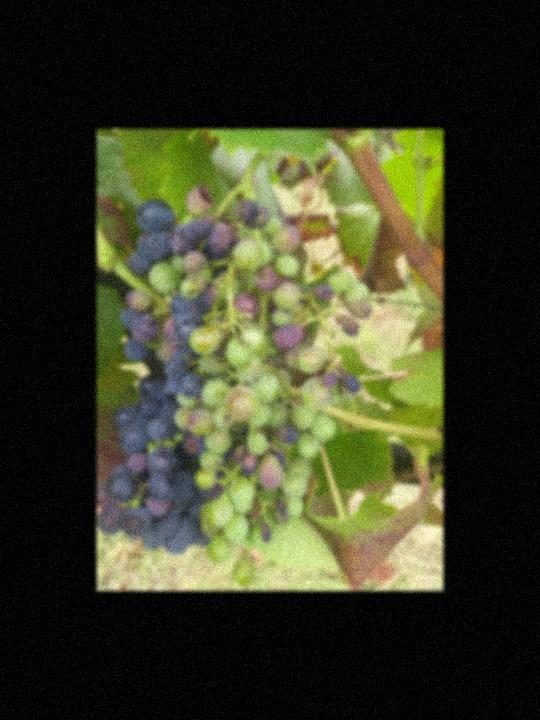grape: (122, 183, 372, 588)
